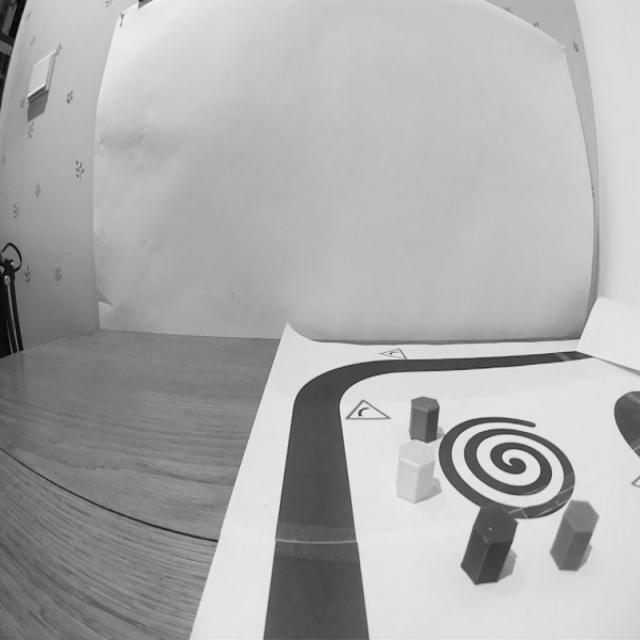hexagon: (457, 499, 520, 590), (548, 496, 601, 575), (393, 438, 437, 508), (407, 392, 442, 444)
leftTurn: (338, 387, 392, 433)
lineStraight: (257, 481, 383, 640)
nest: (438, 411, 580, 518)
